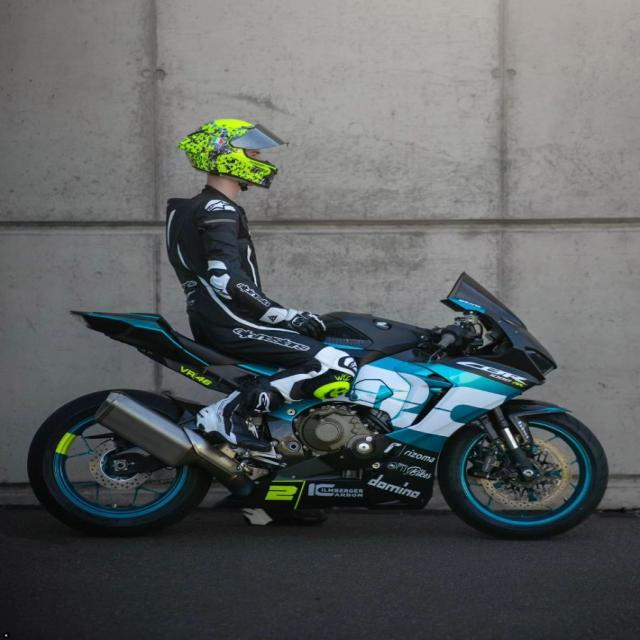helmet: (174, 114, 290, 196)
